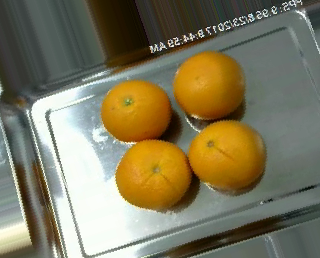Orange: (187, 119, 267, 192), (115, 139, 191, 209), (172, 50, 245, 119), (100, 81, 171, 142)
